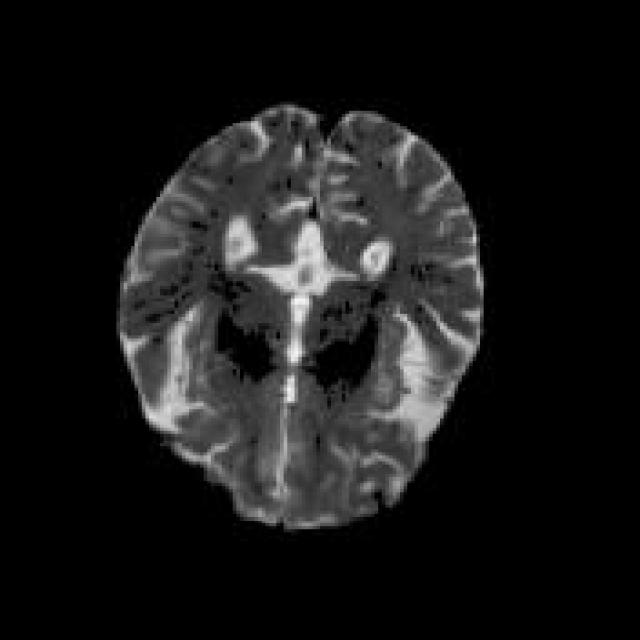parkinson: (113, 99, 487, 532)
